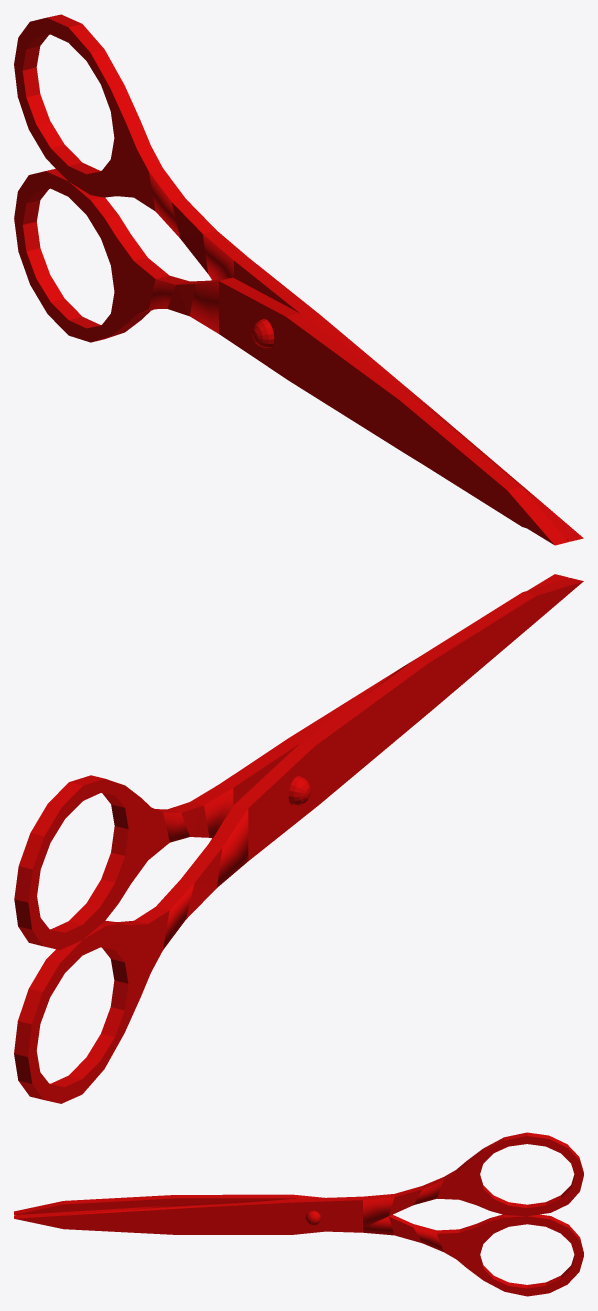
The model's file is scissors1_2.dae.
3 renders of one model, top to bottom at view 1: azimuth 30°, elevation 25°; view 2: azimuth 150°, elevation 25°; view 3: azimuth 270°, elevation 25°, orthographic. The views are drawn at different scales.
Parts seen in each view (by area): view 1: M003320; view 2: M003320; view 3: M003320.
Part boxes in pixels (x1=…): M003320: x1=14, y1=14, x2=583, y2=545; M003320: x1=14, y1=574, x2=583, y2=1103; M003320: x1=14, y1=1132, x2=583, y2=1296.
Bounding box in the file's own units: 0.0156 × 0.2706 × 0.084.
